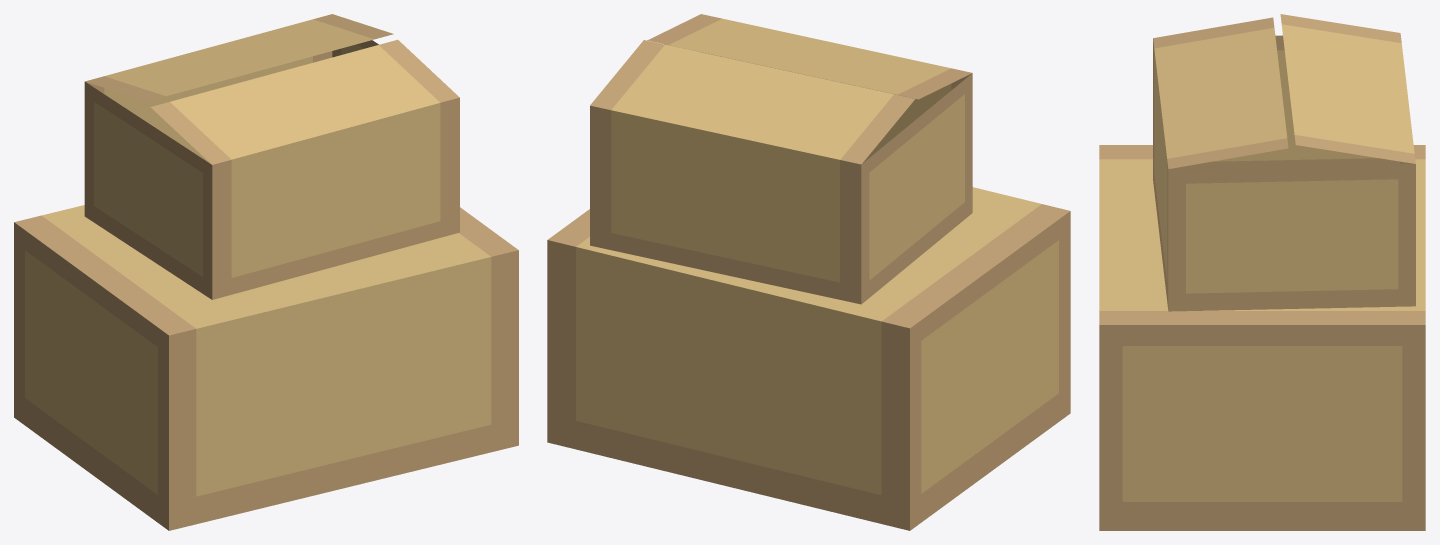
Rendered from box_undertable.glb.
3 views of the same model, side by side, from view 1: azimuth 30°, elevation 25°; view 2: azimuth 150°, elevation 25°; view 3: azimuth 270°, elevation 25° (orthographic). The views are drawn at different scales.
Parts seen in each view (by area): view 1: box_undertable; view 2: box_undertable; view 3: box_undertable.
Boxes of the visible parts, bbox=[...] form: box_undertable: bbox=[14, 14, 518, 530]; box_undertable: bbox=[547, 14, 1070, 530]; box_undertable: bbox=[1099, 14, 1425, 530].
Bounding box in the file's own units: 0.4757 × 0.456 × 0.3647.
